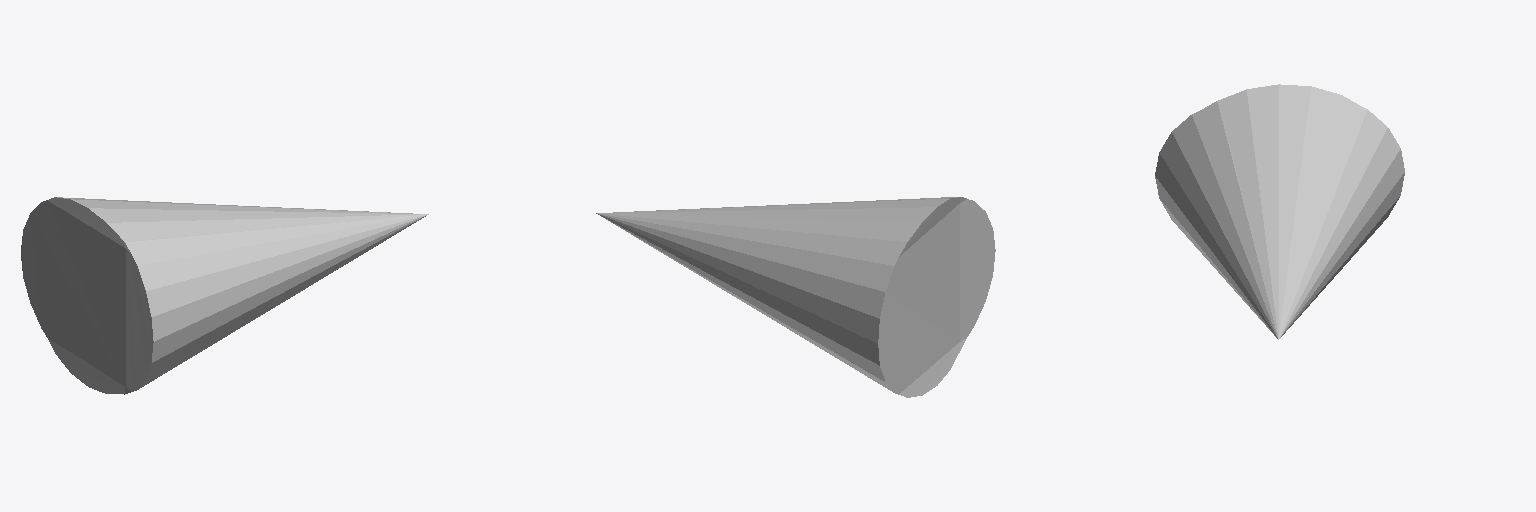
File: Nariz.obj
3 renders of one model, left to right at view 1: azimuth 30°, elevation 25°; view 2: azimuth 150°, elevation 25°; view 3: azimuth 270°, elevation 25°, orthographic.
Visible parts, largest first — view 1: obj_0; view 2: obj_0; view 3: obj_0.
Part boxes in pixels (left/top/right/bottom): obj_0: left=21, top=197, right=428, bottom=394; obj_0: left=596, top=197, right=995, bottom=397; obj_0: left=1155, top=84, right=1404, bottom=339.
Size of the model in its own units: 0.1794 by 0.0887 by 0.1126.